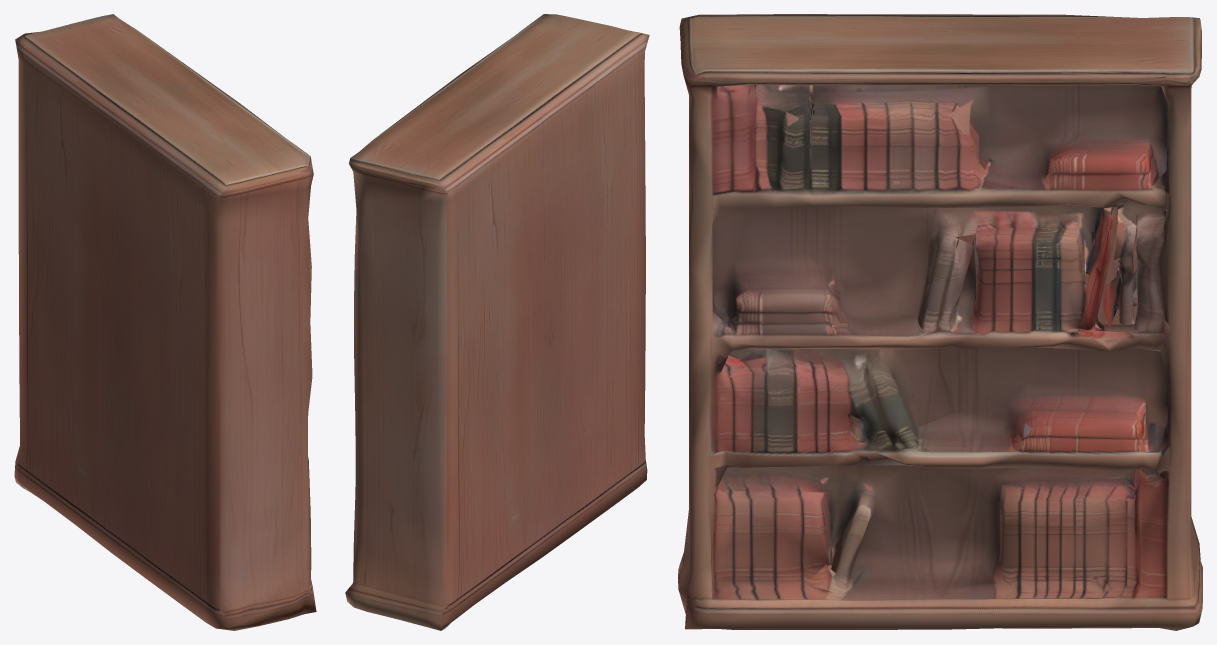
Rendered from OldBookShelf1.fbx.
The picture shows the model from 3 angles, left to right: view 1: azimuth 30°, elevation 25°; view 2: azimuth 150°, elevation 25°; view 3: azimuth 270°, elevation 25°; orthographic projection. The views are drawn at different scales.
Parts seen in each view (by area): view 1: tripo_node_61b110b3; view 2: tripo_node_61b110b3; view 3: tripo_node_61b110b3.
Part boxes in pixels (x1,y1,x2,y2): tripo_node_61b110b3: (14, 14, 316, 630); tripo_node_61b110b3: (345, 14, 649, 630); tripo_node_61b110b3: (678, 14, 1202, 630).
Bounding box in the file's own units: 24.42 × 99.98 × 84.68.
Materials: 1 (1 with a texture image).
